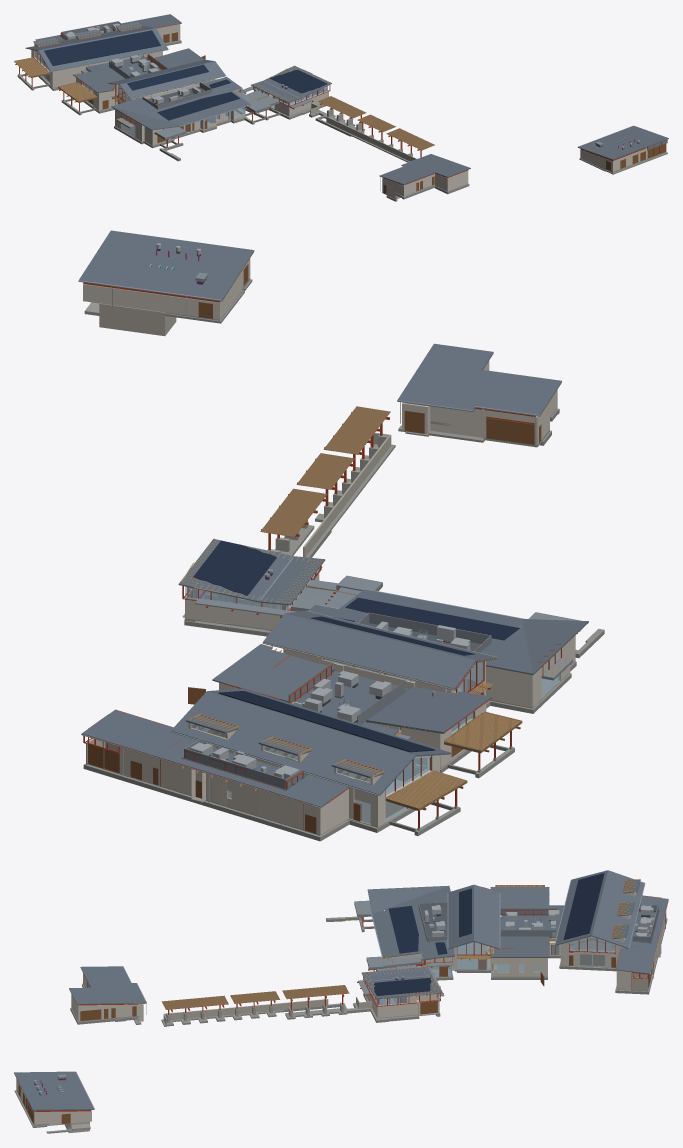
3 renders of one model, top to bottom at view 1: azimuth 30°, elevation 25°; view 2: azimuth 150°, elevation 25°; view 3: azimuth 270°, elevation 25°, orthographic. The views are drawn at different scales.
Visible parts, largest first — view 1: ARC-A2.51-GAP-PV-R4S, ARC-OB-A2.53-M-RF, ARC-OB-A2.53-S-RF, ARC-A2.52-RS-LOBBY-S, ARC-RN-R4-S, ARC-A2.52-RS-R2-S, ARC-A2.52-GF-PV-R2, ARC-RN-R3-CC, ARC-A2.52-GF-PV-R6E, ARC-A2.52-GF-PV-R5S, STR-S1.08-TREL-RW1, ARC-RN-R2-CC (+16 smaller); view 2: ARC-OB-A2.53-M-RF, ARC-OB-A2.53-S-RF, ARC-RN-R4-N, ARC-RN-R2-WING, ARC-A2.52-RS-LOBBY-N, ARC-RN-R3-CC, ARC-RN-R2-CC, ARC-RN-R5-N, ARC-A2.52-GF-PV-R6E, ARC-A2.52-RS-R2-S, ARC-A2.52-GF-PV-R2, ARC-A2.51-GAP-PV-R4S (+24 smaller); view 3: ARC-OB-A2.53-M-RF, ARC-OB-A2.53-S-RF, ARC-RN-R4-N, ARC-A2.51-GAP-PV-R4S, ARC-RN-R2-WING, ARC-A2.52-RS-R2-S, ARC-RN-R2-CC, ARC-RN-R3-CC, ARC-A2.52-GF-PV-R2, ARC-A2.52-RS-W, STR-S1.08-TREL-RW1, ARC-A2.52-RS-LOBBY-S (+19 smaller).
Part boxes in pixels (<box>): ARC-A2.51-GAP-PV-R4S: <box>44,30,160,65</box>; ARC-OB-A2.53-M-RF: <box>578,126,668,159</box>; ARC-OB-A2.53-S-RF: <box>379,154,470,184</box>; ARC-A2.52-RS-LOBBY-S: <box>119,61,225,99</box>; ARC-RN-R4-S: <box>38,28,168,71</box>; ARC-A2.52-RS-R2-S: <box>142,91,250,125</box>; ARC-A2.52-GF-PV-R2: <box>157,92,239,120</box>; ARC-RN-R3-CC: <box>73,68,124,93</box>; ARC-A2.52-GF-PV-R6E: <box>269,69,327,93</box>; ARC-A2.52-GF-PV-R5S: <box>127,64,208,90</box>; STR-S1.08-TREL-RW1: <box>326,116,416,161</box>; ARC-RN-R2-CC: <box>154,48,203,68</box>; ARC-OB-A2.53-M-RF: <box>79,230,254,301</box>; ARC-OB-A2.53-S-RF: <box>397,343,561,416</box>; ARC-RN-R4-N: <box>176,691,415,789</box>; ARC-RN-R2-WING: <box>81,710,349,807</box>; ARC-A2.52-RS-LOBBY-N: <box>273,613,475,676</box>; ARC-RN-R3-CC: <box>367,687,492,733</box>; ARC-RN-R2-CC: <box>212,644,333,702</box>; ARC-RN-R5-N: <box>263,628,464,688</box>; ARC-A2.52-GF-PV-R6E: <box>193,540,276,595</box>; ARC-A2.52-RS-R2-S: <box>339,589,528,650</box>; ARC-A2.52-GF-PV-R2: <box>345,597,519,640</box>; ARC-A2.51-GAP-PV-R4S: <box>218,691,435,752</box>; ARC-OB-A2.53-M-RF: <box>14,1071,94,1110</box>; ARC-OB-A2.53-S-RF: <box>69,966,146,1004</box>; ARC-RN-R4-N: <box>592,870,634,946</box>; ARC-A2.51-GAP-PV-R4S: <box>563,873,604,939</box>; ARC-RN-R2-WING: <box>615,896,668,974</box>; ARC-A2.52-RS-R2-S: <box>372,898,426,957</box>; ARC-RN-R2-CC: <box>490,936,549,957</box>; ARC-RN-R3-CC: <box>490,887,549,912</box>; ARC-A2.52-GF-PV-R2: <box>388,906,418,953</box>; ARC-A2.52-RS-W: <box>367,885,448,913</box>; STR-S1.08-TREL-RW1: <box>164,999,328,1019</box>; ARC-A2.52-RS-LOBBY-S: <box>448,884,473,949</box>.
Size of the model in its own units: 128 by 10.59 by 147.
